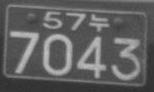0: (42, 33, 73, 76)
3: (111, 36, 141, 82)
4: (77, 35, 106, 80)
5: (42, 10, 62, 30)
7: (9, 29, 39, 74), (65, 11, 86, 30)
누: (88, 12, 109, 32)
